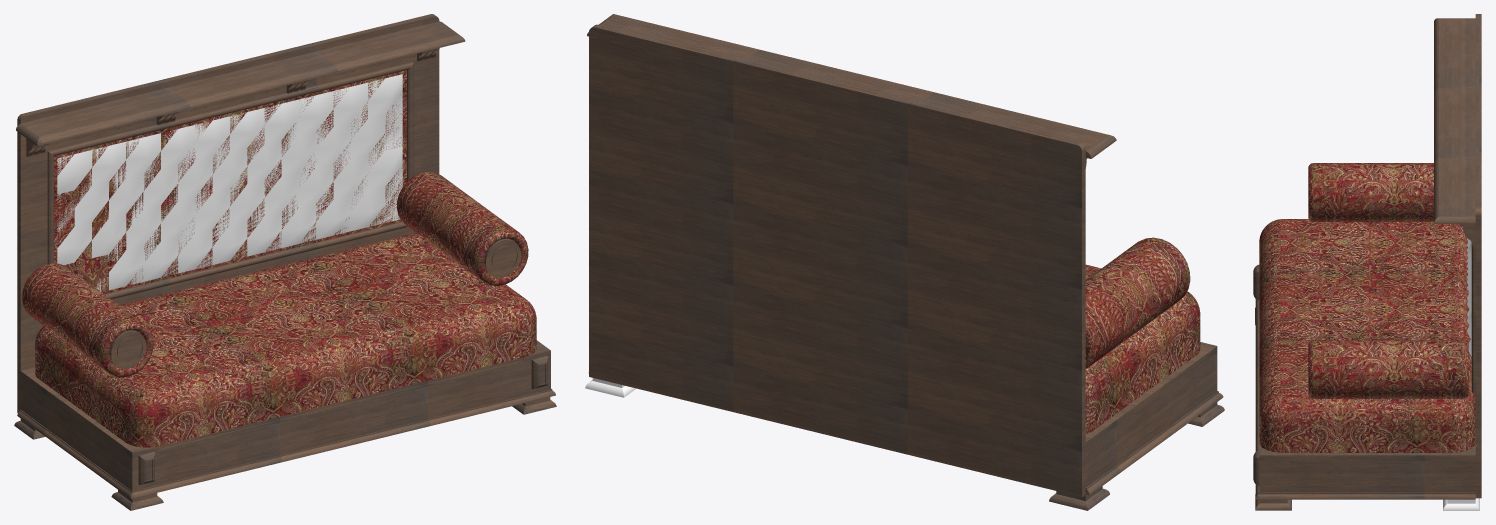
The model's file is SofaMood.fbx.
The picture shows the model from 3 angles, left to right: view 1: azimuth 30°, elevation 25°; view 2: azimuth 150°, elevation 25°; view 3: azimuth 270°, elevation 25°; orthographic projection. The views are drawn at different scales.
Visible parts, largest first — view 1: Component_1_1, Group2, Component_7_2, Component_7_1; view 2: Component_1_1, Component_7_2, Component_5_4; view 3: Component_1_1, Component_7_1, Component_7_2, Group2, Component_5_1, Component_5_2.
Boxes of the visible parts, bbox=[...] form: Component_1_1: bbox=[16, 14, 555, 498]; Group2: bbox=[57, 74, 402, 291]; Component_7_2: bbox=[22, 263, 153, 377]; Component_7_1: bbox=[397, 172, 528, 285]; Component_1_1: bbox=[587, 14, 1223, 496]; Component_7_2: bbox=[1085, 237, 1190, 368]; Component_5_4: bbox=[1049, 486, 1109, 510]; Component_1_1: bbox=[1255, 14, 1481, 499]; Component_7_1: bbox=[1308, 340, 1468, 398]; Component_7_2: bbox=[1308, 163, 1433, 221]; Group2: bbox=[1467, 238, 1471, 356]; Component_5_1: bbox=[1443, 498, 1479, 510]; Component_5_2: bbox=[1255, 494, 1291, 510].
Bounding box in the file's own units: 1984 × 1374 × 946.
